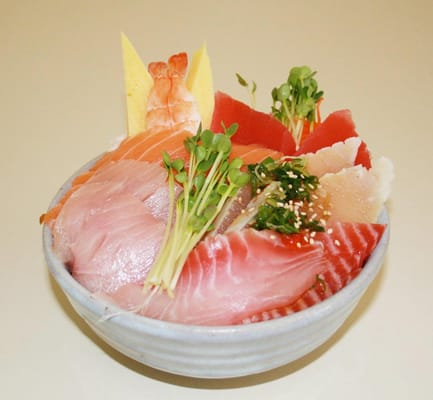sushi: (41, 54, 403, 379)
